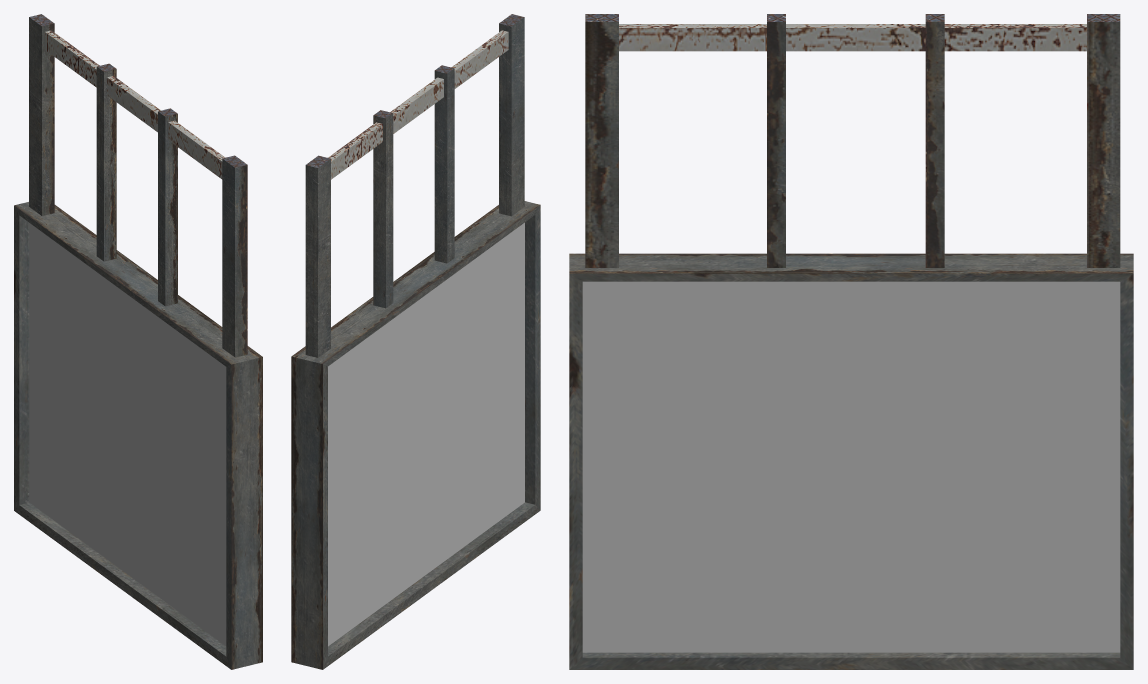
The model's file is StorageWallA.FBX.
3 views of the same model, side by side, from view 1: azimuth 30°, elevation 25°; view 2: azimuth 150°, elevation 25°; view 3: azimuth 270°, elevation 25° (orthographic). The views are drawn at different scales.
Visible parts, largest first — view 1: StorageWall; view 2: StorageWall; view 3: StorageWall.
Boxes of the visible parts, left/top/right/bottom form: StorageWall: left=14, top=14, right=262, bottom=669; StorageWall: left=291, top=14, right=540, bottom=669; StorageWall: left=569, top=14, right=1133, bottom=669.
Size of the model in its own units: 17.21 by 259 by 206.
